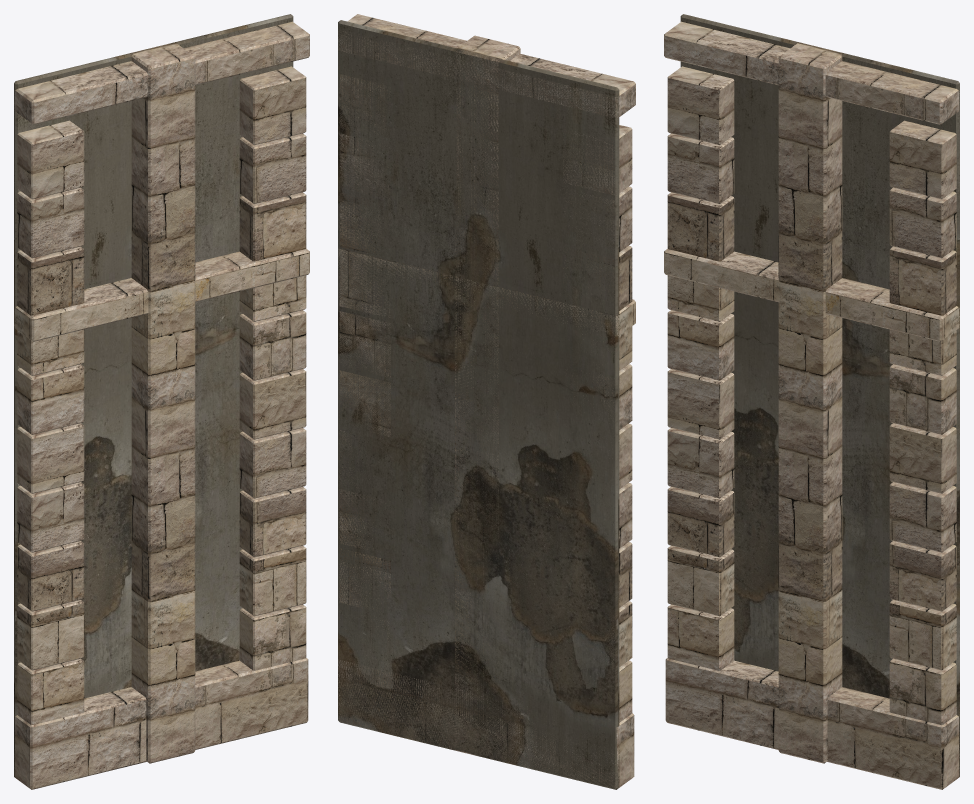
Rendered from rug-east-south.glb.
3 renders of one model, left to right at view 1: azimuth 30°, elevation 25°; view 2: azimuth 150°, elevation 25°; view 3: azimuth 330°, elevation 25°, orthographic.
Visible parts, largest first — view 1: Weathered wall face; view 2: Weathered wall face; view 3: Weathered wall face.
Boxes of the visible parts, x1,y1,x2,y2 form: Weathered wall face: (14,14,309,789); Weathered wall face: (338,14,635,789); Weathered wall face: (664,14,959,789).
Size of the model in its own units: 1.88 by 4.5 by 0.24.
Materials: 2 (2 with a texture image).
